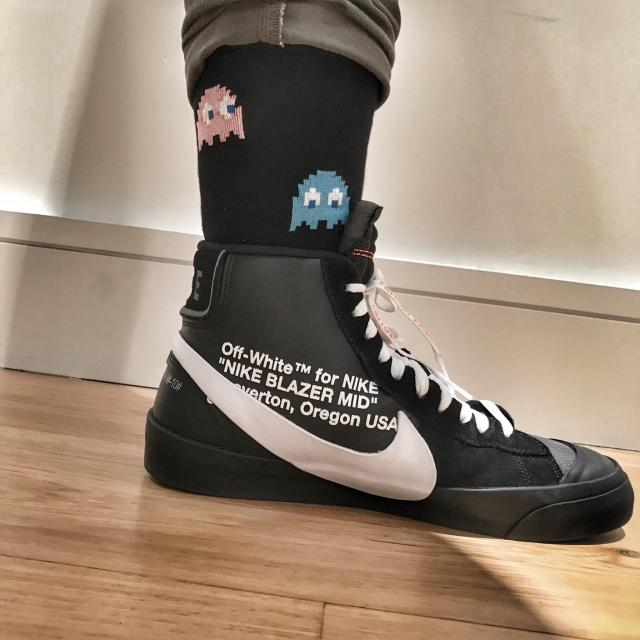shoe: (129, 225, 639, 550)
